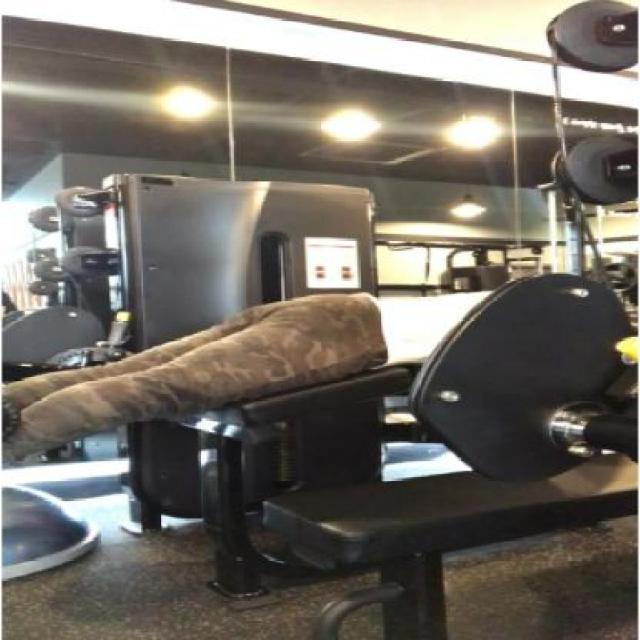reg curl machine: (4, 164, 640, 595)
